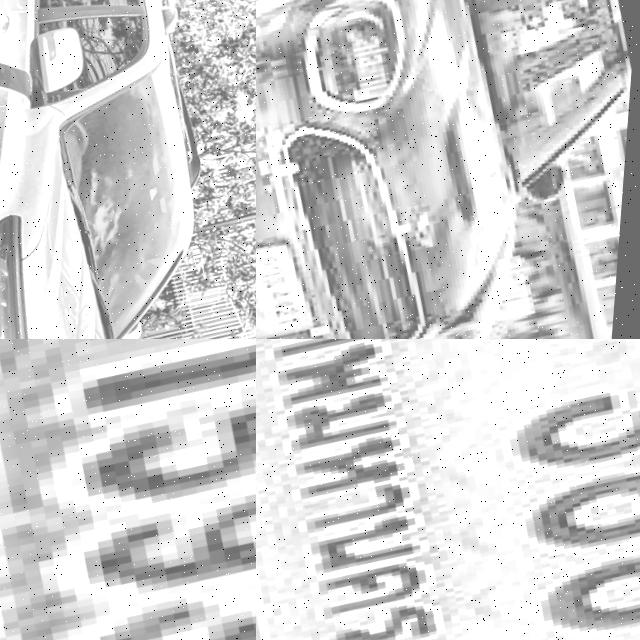license-plate: (256, 339, 640, 640), (0, 339, 256, 640), (256, 224, 338, 339)
